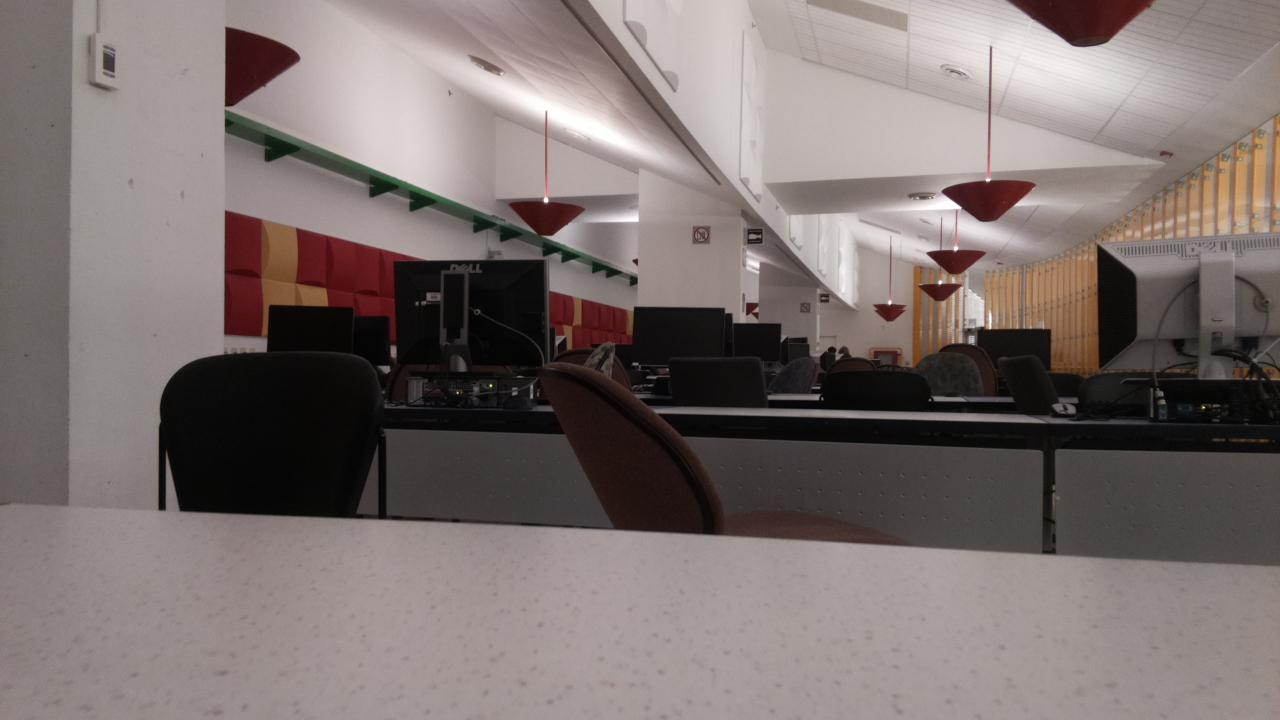sign: (692, 226, 709, 243), (747, 229, 762, 244), (799, 303, 809, 311), (820, 293, 828, 302)
tvmonitor: (1098, 234, 1278, 367), (394, 262, 548, 363), (630, 306, 726, 366), (267, 306, 352, 354), (353, 317, 390, 365), (734, 323, 780, 361)
